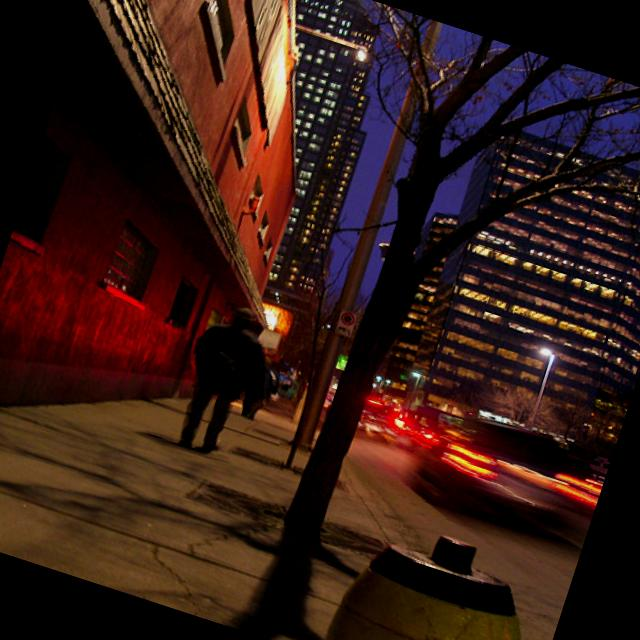Vehicle: (402, 396, 586, 542), (357, 397, 406, 442)
